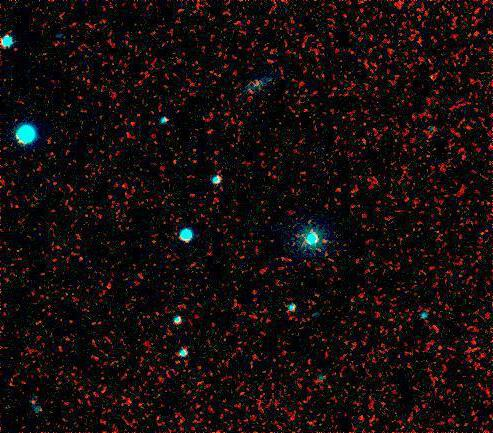star: (20, 384, 50, 414)
